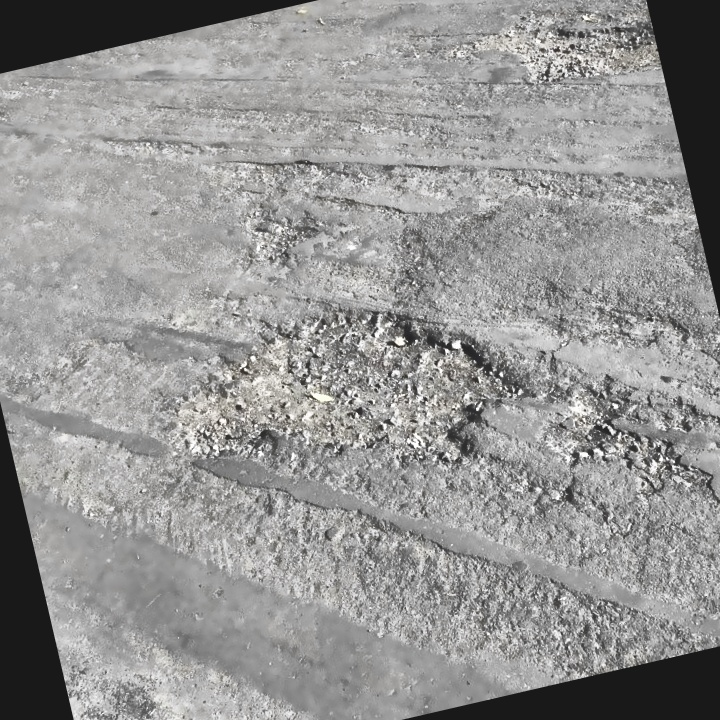pothole: (138, 258, 544, 532), (439, 0, 660, 112), (525, 370, 645, 470), (235, 205, 328, 271)
